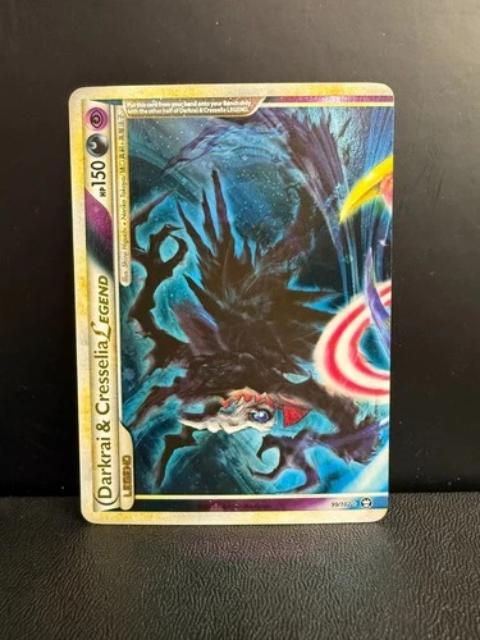Card: (65, 77, 397, 528)
Name: (88, 265, 121, 507)
